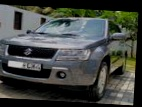car: (0, 13, 130, 103)
